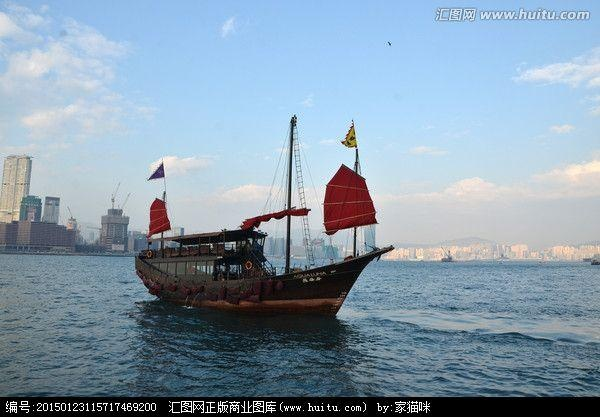otherboat: (135, 193, 396, 321)
